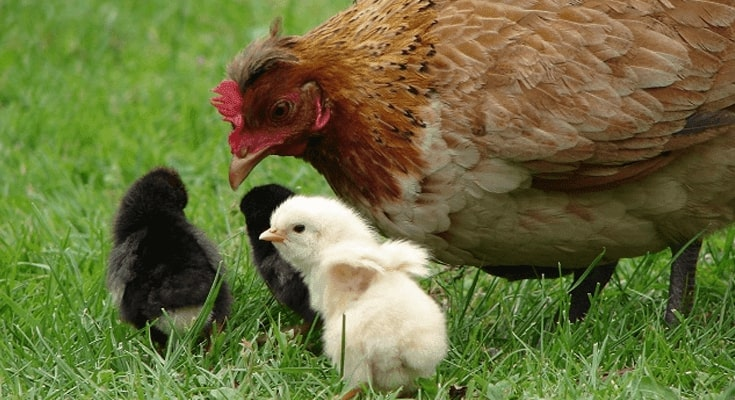ayam: (213, 15, 699, 192), (251, 197, 473, 395), (94, 153, 236, 348)
